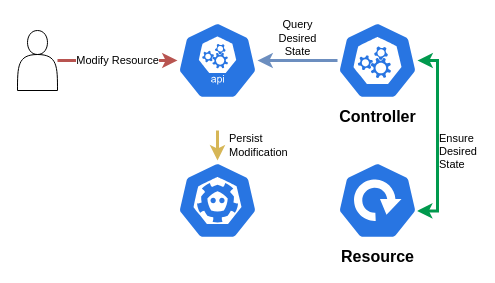
Some shapes in this 495 by 283 pixel diagram are drawn without their labels. Here are the shapes that lost their labels. From the top down, the centre of each, then its label:
At [217,60]: "API Server".
At [217,200]: "ETCD".
